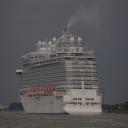cruises: (16, 30, 105, 118)
